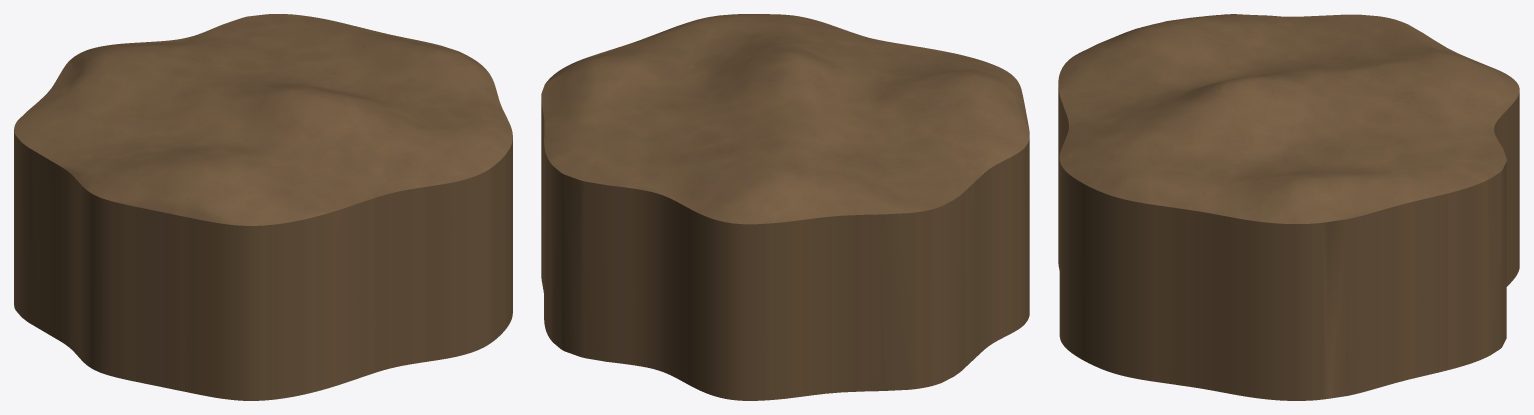
3 renders of one model, left to right at view 1: azimuth 30°, elevation 25°; view 2: azimuth 150°, elevation 25°; view 3: azimuth 270°, elevation 25°, orthographic.
Visible parts, largest first — view 1: SM_Vault_Sand_Pile_01_V2_LOD0; view 2: SM_Vault_Sand_Pile_01_V2_LOD0; view 3: SM_Vault_Sand_Pile_01_V2_LOD0.
Boxes of the visible parts, box(x1,y1,x2,y2) form: SM_Vault_Sand_Pile_01_V2_LOD0: box(14, 14, 512, 400); SM_Vault_Sand_Pile_01_V2_LOD0: box(541, 14, 1029, 400); SM_Vault_Sand_Pile_01_V2_LOD0: box(1058, 14, 1519, 400).
Size of the model in its own units: 2.54 by 1.23 by 2.36.
1 material, 1 textured.
